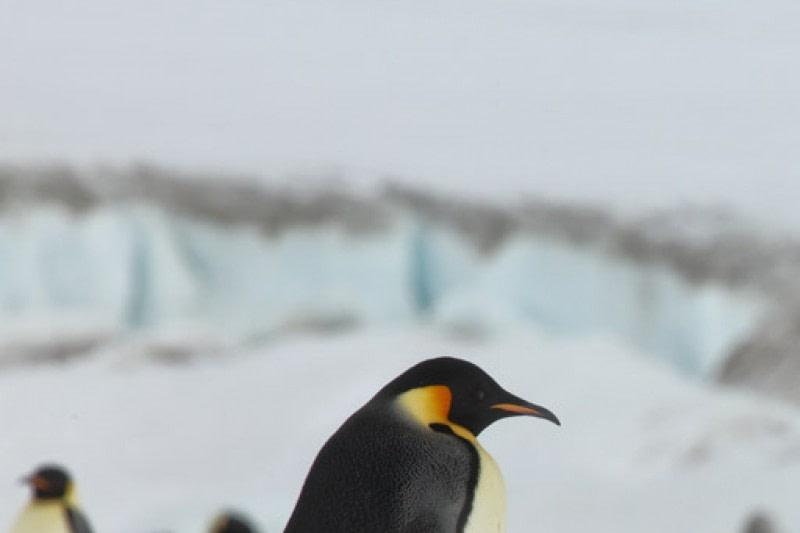Emperor Penguin: (162, 322, 595, 533)
